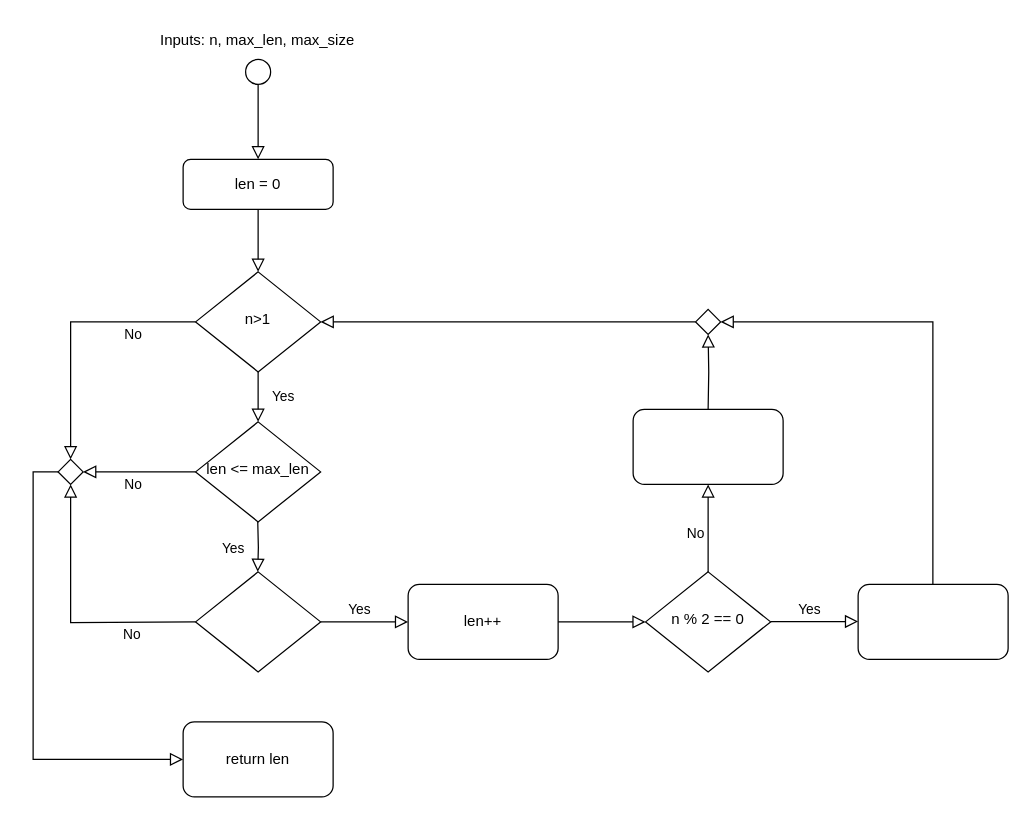
Image size: 1030x819. Some labels were removed from this diagram. Each missing label, with the box of its shape:
n < max_size: (194, 571, 321, 672)
n = 3 * n + 1: (632, 408, 783, 484)
n = n / 2: (857, 583, 1008, 659)
